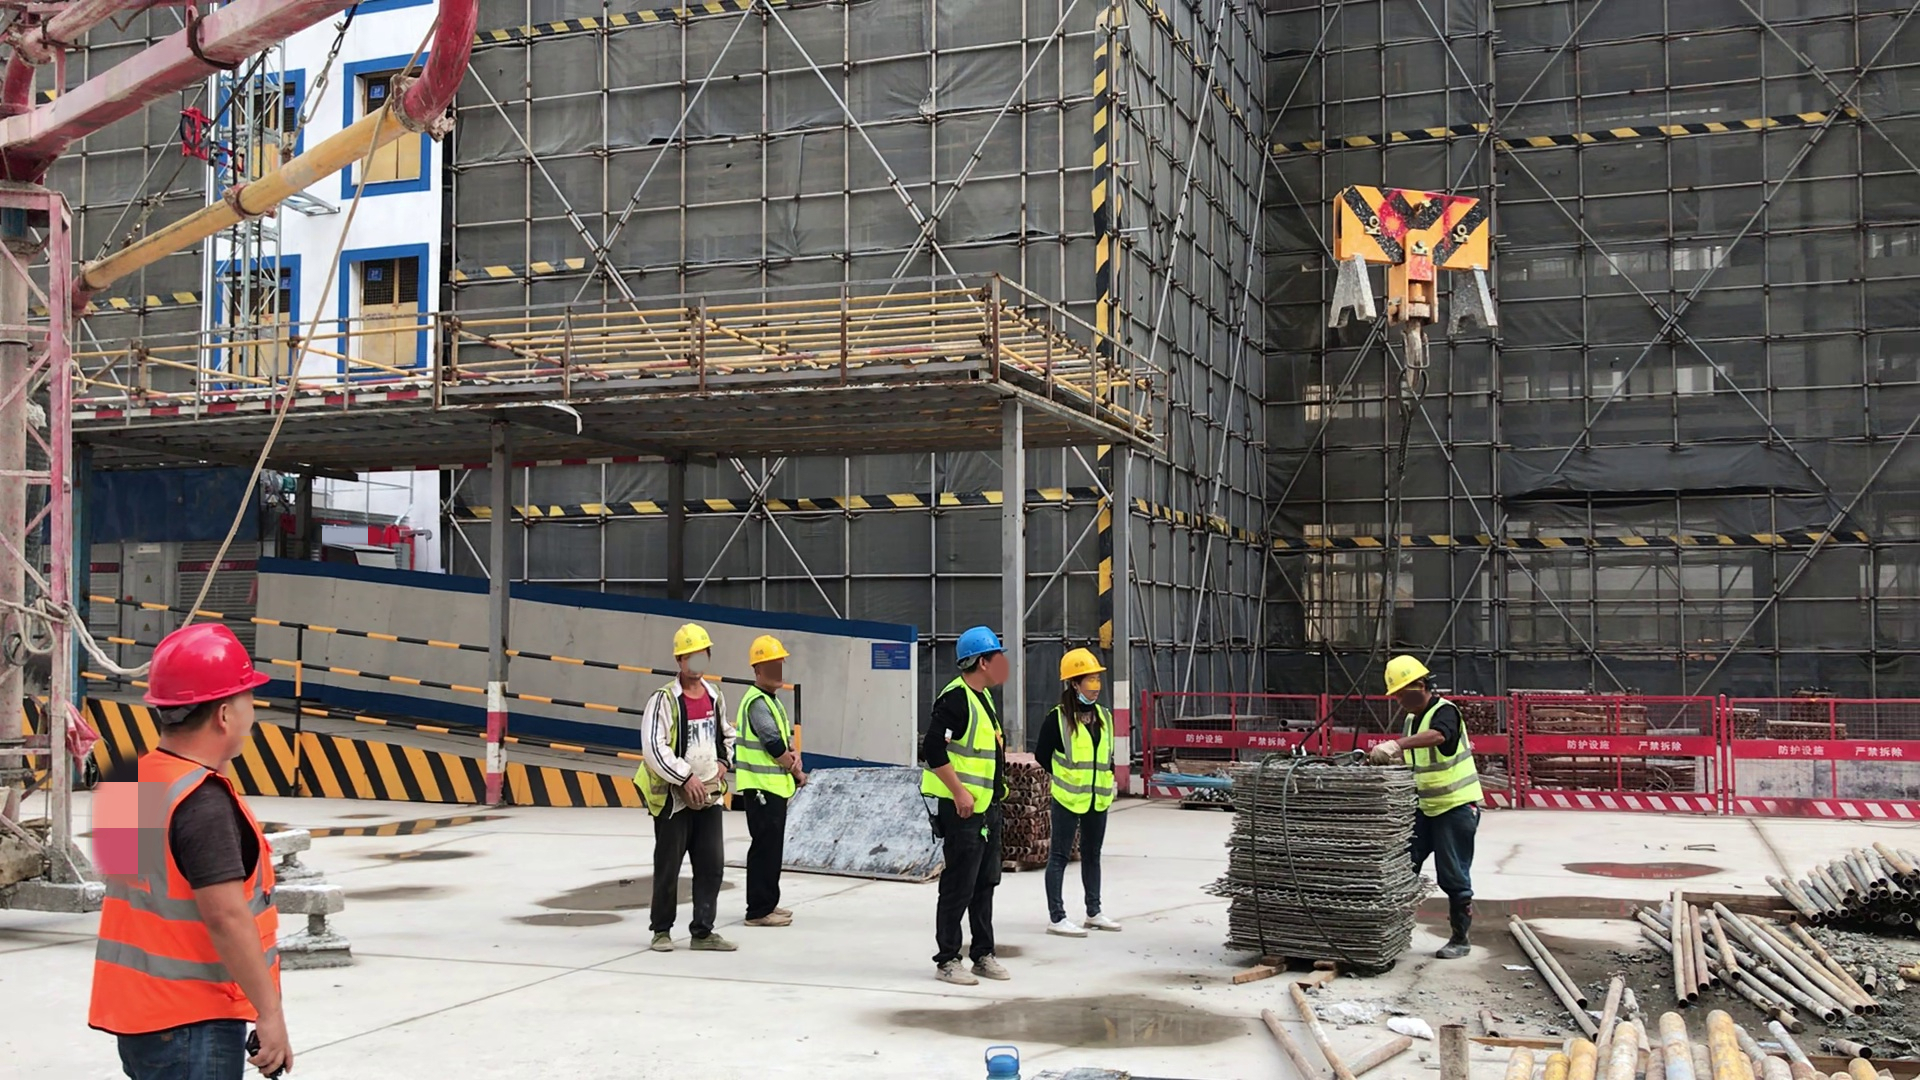board: (721, 764, 982, 889)
fence: (1138, 676, 1911, 834)
helmet: (138, 623, 269, 709), (952, 623, 1010, 664), (1378, 654, 1430, 695), (669, 618, 714, 662), (1057, 646, 1104, 686), (744, 636, 793, 668)
hook: (1321, 180, 1503, 410)
person: (87, 616, 296, 1080), (914, 623, 1020, 991), (632, 616, 744, 958), (1366, 649, 1483, 963), (1032, 644, 1131, 939), (731, 633, 804, 930)
vest: (84, 754, 286, 1031), (1390, 703, 1489, 818), (923, 677, 1005, 810), (1043, 697, 1119, 824), (733, 687, 794, 799)
